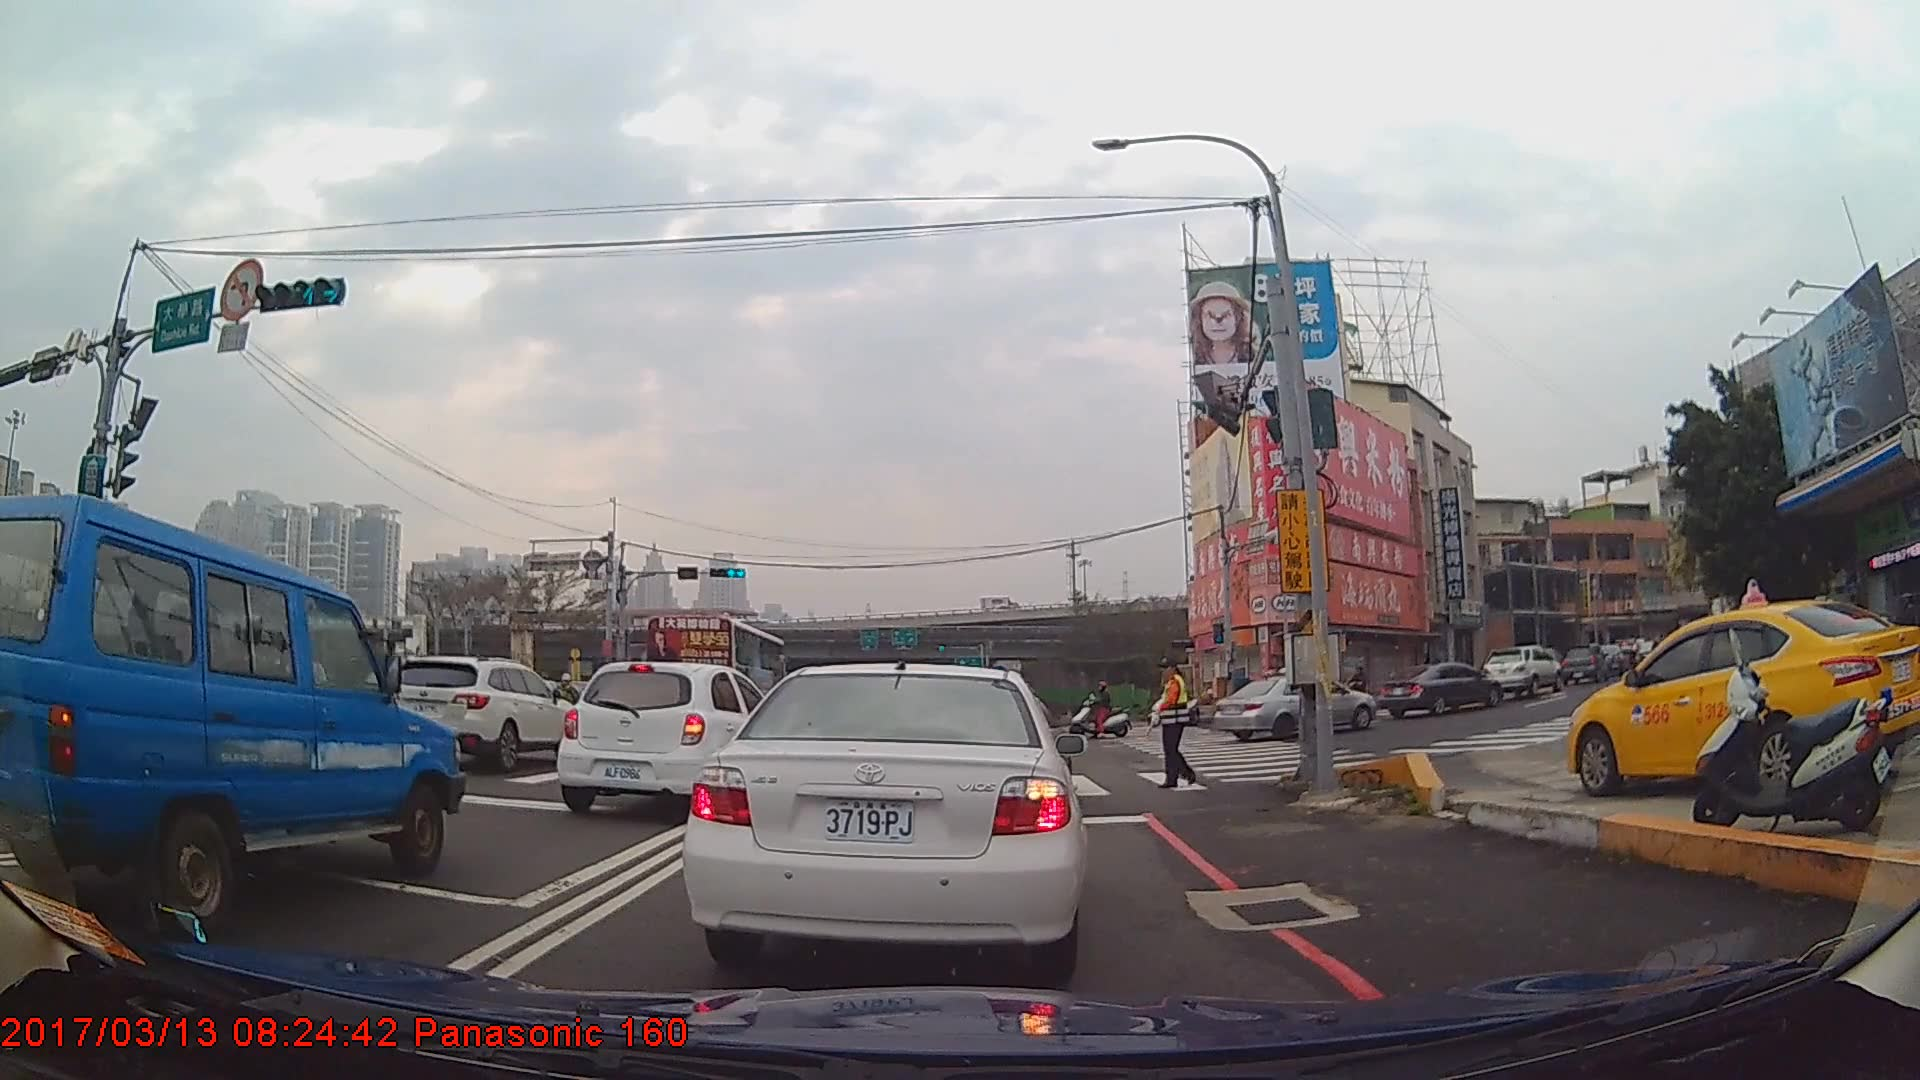pedestrian: (1145, 657, 1200, 791)
rider: (1071, 682, 1132, 738), (553, 674, 583, 740), (1345, 661, 1375, 713)
vehicle: (0, 487, 465, 934), (679, 656, 1087, 972), (1566, 599, 1920, 797), (556, 660, 794, 820), (379, 655, 585, 770), (645, 614, 785, 721), (1215, 673, 1376, 743), (1378, 661, 1499, 720), (1483, 645, 1563, 700), (1561, 642, 1608, 688)
